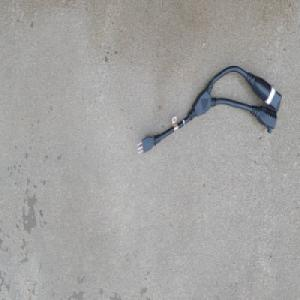Wire: (136, 63, 282, 154)
